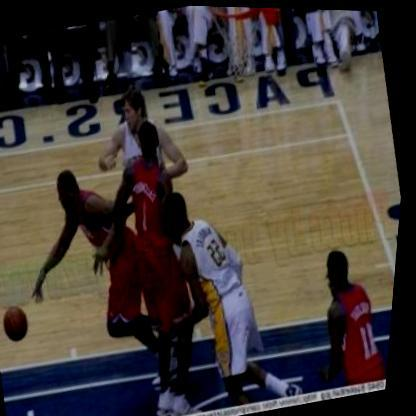basketball: (0, 299, 42, 346)
